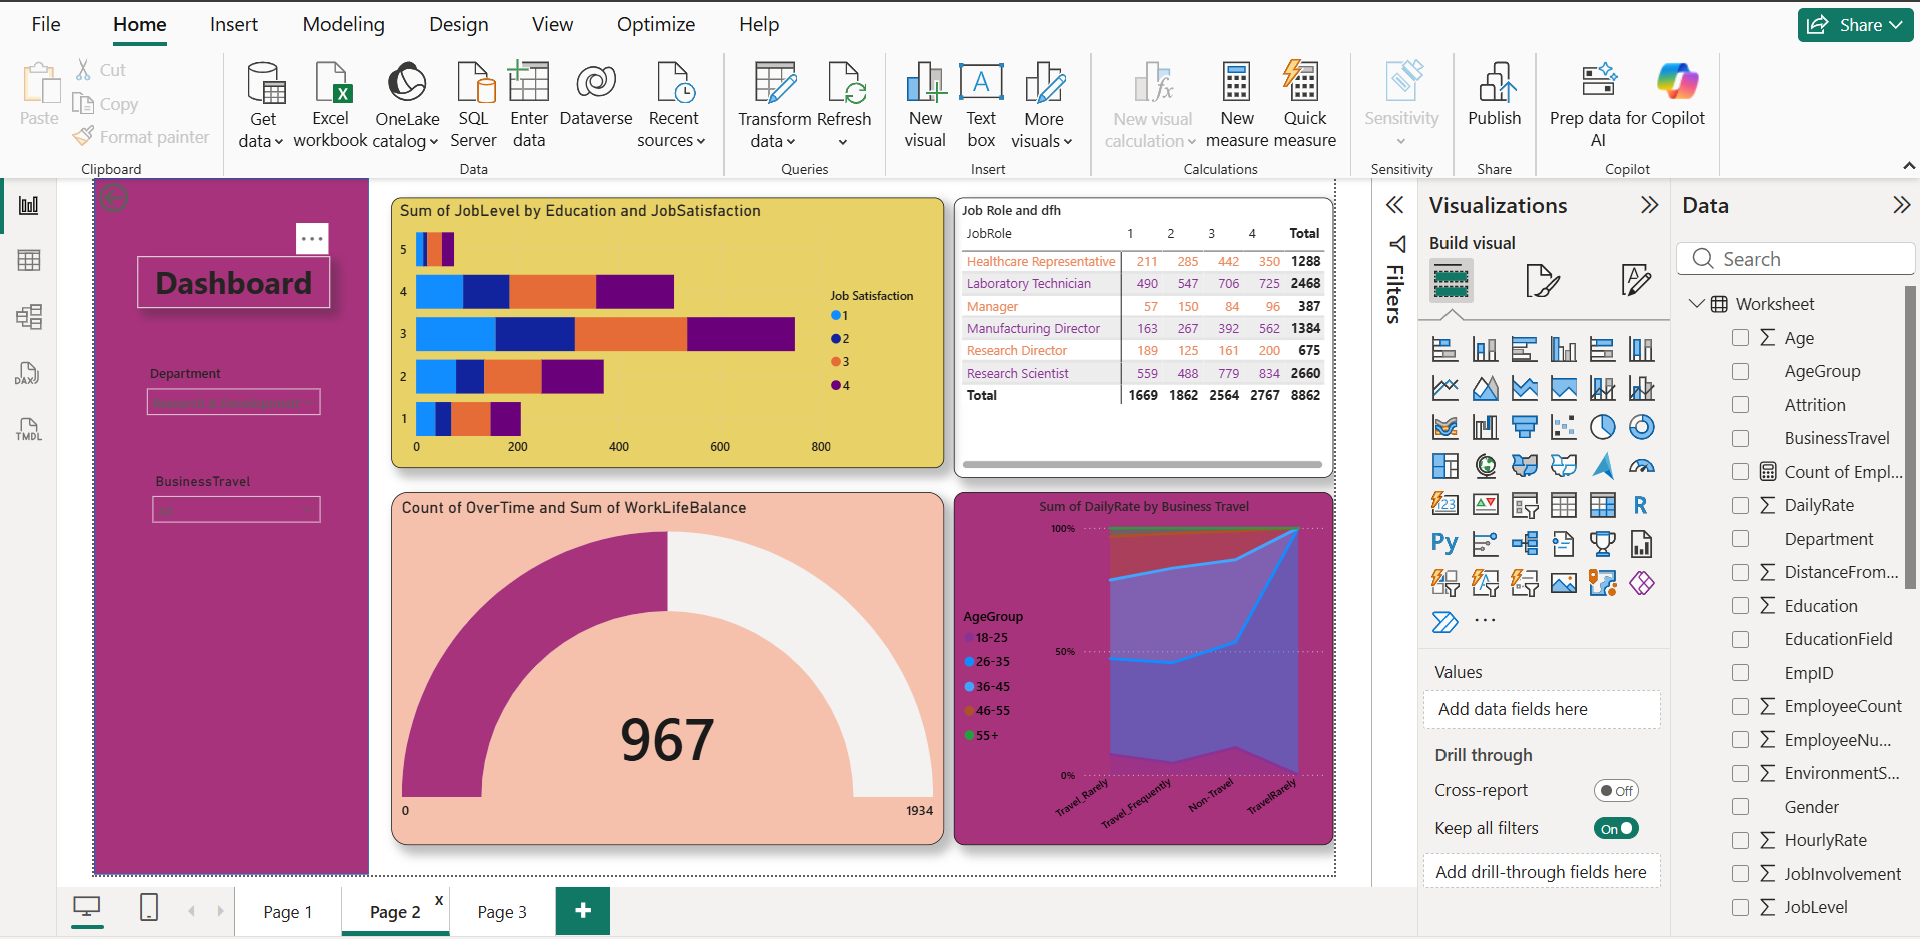

The page's visual inventory and layout, read from the dashboard file:
{"tool":"powerbi","page":{"name":"Page 2","canvas":[1280,720],"ordinal":1},"visuals":[{"type":"barChart","fields":{"Category":["Worksheet.Education"],"Y":["Sum(Worksheet.JobLevel)"],"Series":["Worksheet.JobSatisfaction"]},"box":[307.1,20.2,570.9,279.7],"z":0},{"type":"shape","box":[0,0,284,719.3],"z":1000},{"type":"textbox","box":[44.7,80.7,198.9,53.3],"z":2000},{"type":"gauge","fields":{"Y":["CountNonNull(Worksheet.OverTime)"],"TargetValue":["Sum(Worksheet.WorkLifeBalance)"]},"box":[307.1,324.4,570.9,364.7],"z":3000},{"type":"actionButton","box":[0,0,100,40],"z":4000},{"type":"pivotTable","title":"Job Role and dfh","fields":{"Rows":["Worksheet.JobRole"],"Columns":["Worksheet.EnvironmentSatisfaction"],"Values":["Sum(Worksheet.DistanceFromHome)"]},"box":[888,20.2,392.1,289.8],"z":5000},{"type":"hundredPercentStackedAreaChart","title":"Sum of DailyRate by Business Travel ","fields":{"Y":["Sum(Worksheet.DailyRate)"],"Category":["Worksheet.BusinessTravel"],"Series":["Worksheet.AgeGroup"]},"box":[888,324,392,365],"z":6000},{"type":"slicer","fields":{"Values":["Worksheet.Department"]},"box":[44.7,187.4,198.9,80.7],"z":7000},{"type":"slicer","fields":{"Values":["Worksheet.BusinessTravel"]},"box":[50.5,299.8,193.2,75],"z":8000}]}

Visuals, with their boxes on the page's 1280x720 design canvas (x1, y1, x2, y2). These are canvas units, not pixel positions in the 1920x939 screenshot, which may show the page scaled, cropped or inside an application window:
barChart - Worksheet.Education x Sum(Worksheet.JobLevel): {"left": 307, "top": 20, "right": 878, "bottom": 300}
shape: {"left": 0, "top": 0, "right": 284, "bottom": 719}
textbox: {"left": 45, "top": 81, "right": 244, "bottom": 134}
gauge - CountNonNull(Worksheet.OverTime) x Sum(Worksheet.WorkLifeBalance): {"left": 307, "top": 324, "right": 878, "bottom": 689}
actionButton: {"left": 0, "top": 0, "right": 100, "bottom": 40}
"Job Role and dfh" pivotTable: {"left": 888, "top": 20, "right": 1280, "bottom": 310}
"Sum of DailyRate by Business Travel " hundredPercentStackedAreaChart: {"left": 888, "top": 324, "right": 1280, "bottom": 689}
slicer - Worksheet.Department: {"left": 45, "top": 187, "right": 244, "bottom": 268}
slicer - Worksheet.BusinessTravel: {"left": 50, "top": 300, "right": 244, "bottom": 375}
